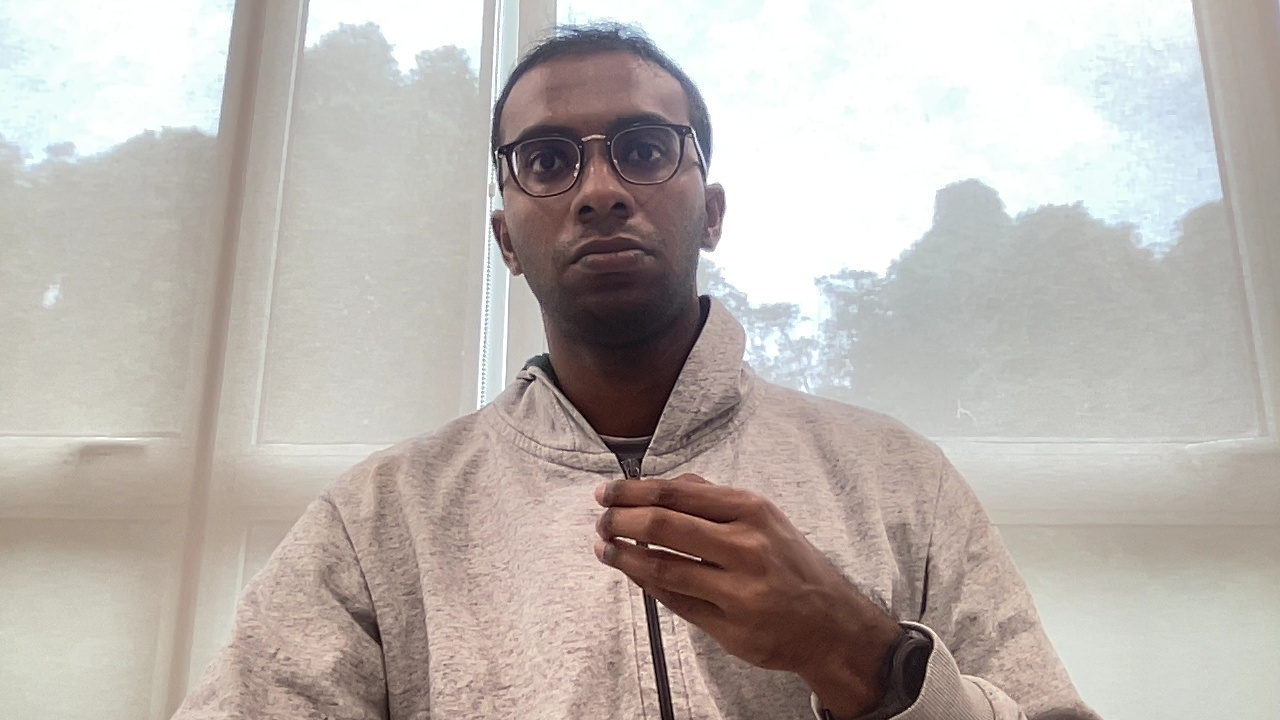drink: (588, 467, 839, 667)
